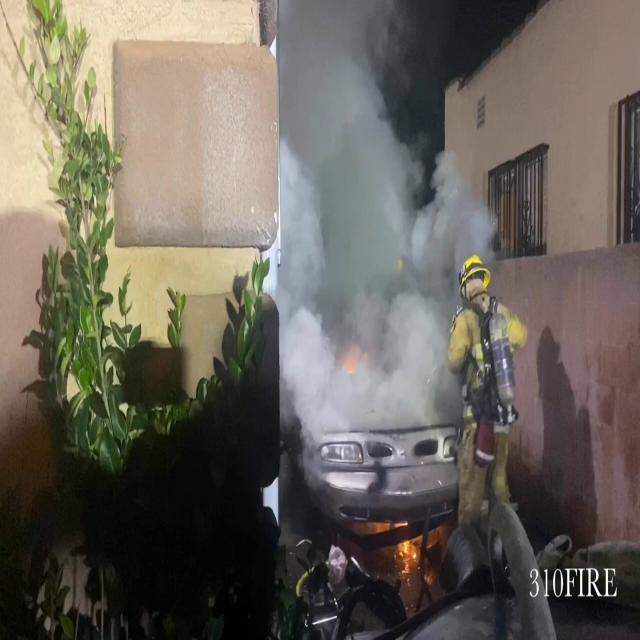Fire: (395, 532, 421, 578)
Smoke: (279, 0, 495, 440)
